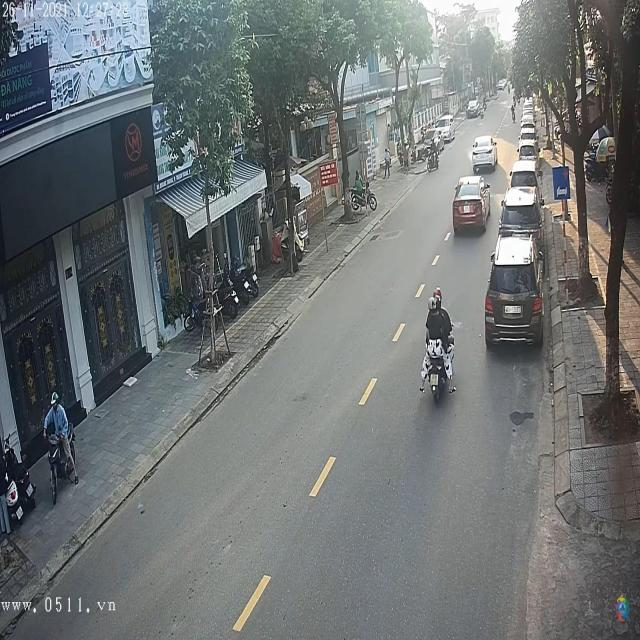car: (486, 231, 544, 349), (451, 175, 490, 234), (506, 160, 538, 196), (470, 138, 497, 174)
motorcycle: (420, 342, 455, 401)
